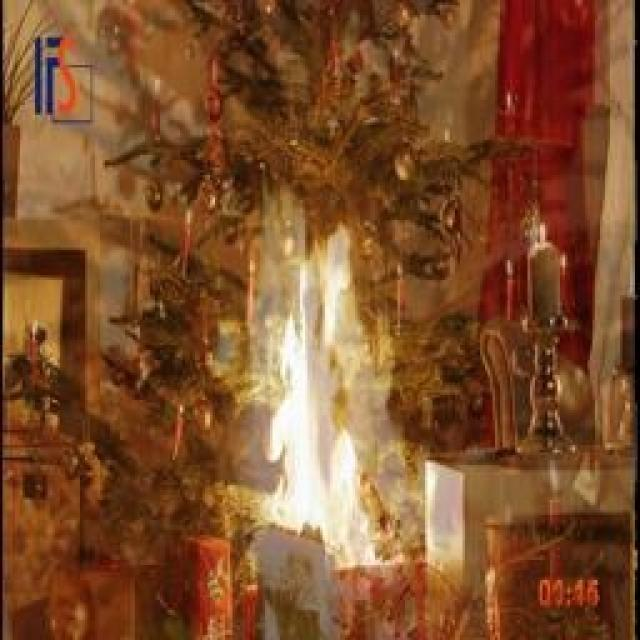fire: (245, 221, 430, 559)
